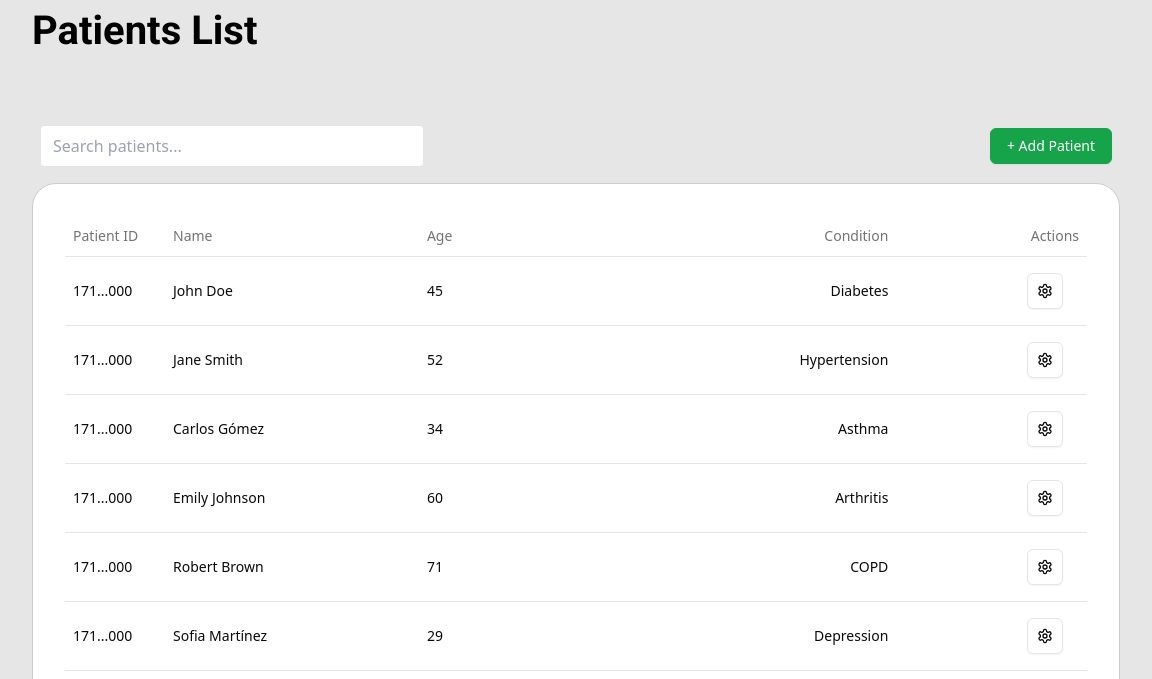
Scenario: template spec › Adds a new patient
This screenshot has width=1152, height=679.
Click the button "+ Add Patient". click: (1051, 146)
box: [990,128,1112,164]
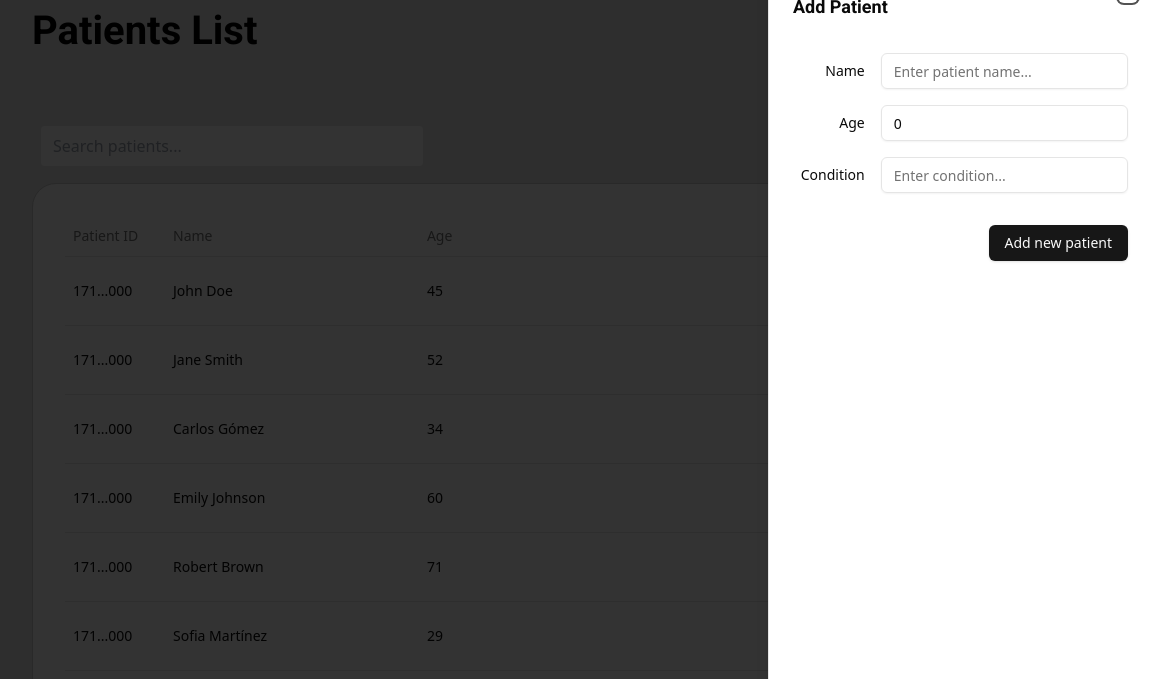
Type "New Patient" into the field named "name". click: (1005, 71)
box: [881,53,1128,89]
Type "30" into the number field named "age". click: (1005, 123)
box: [881,105,1128,141]
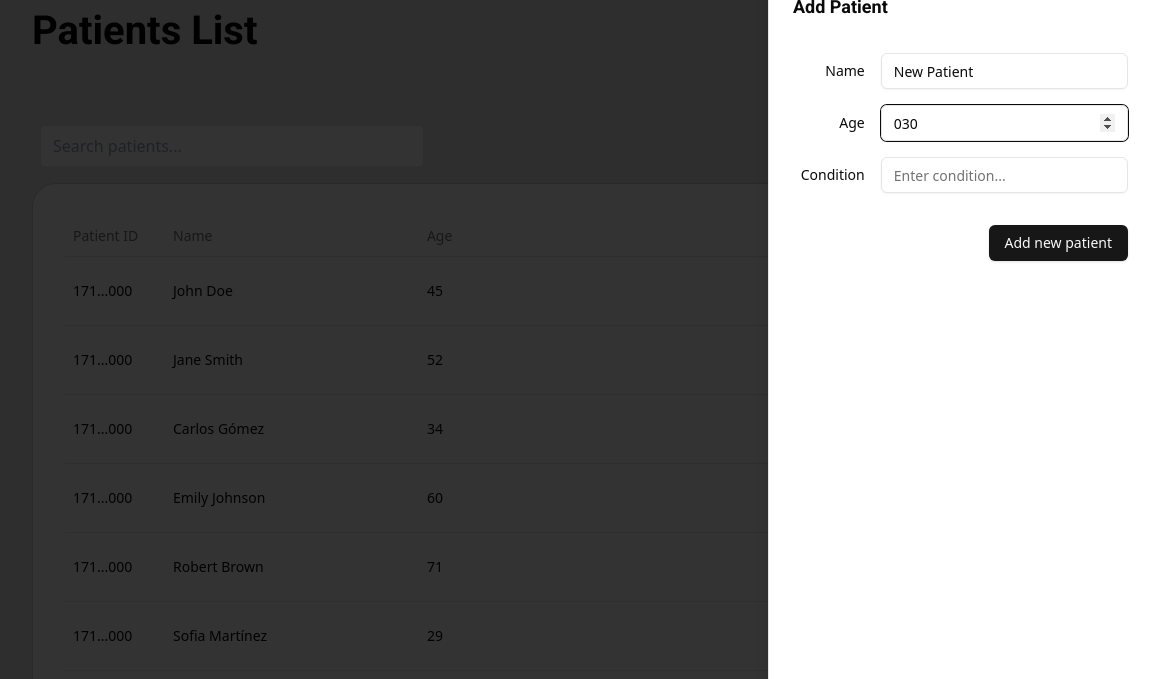
Type "Healthy" into the field named "condition". click: (1005, 175)
box: [881,157,1128,193]
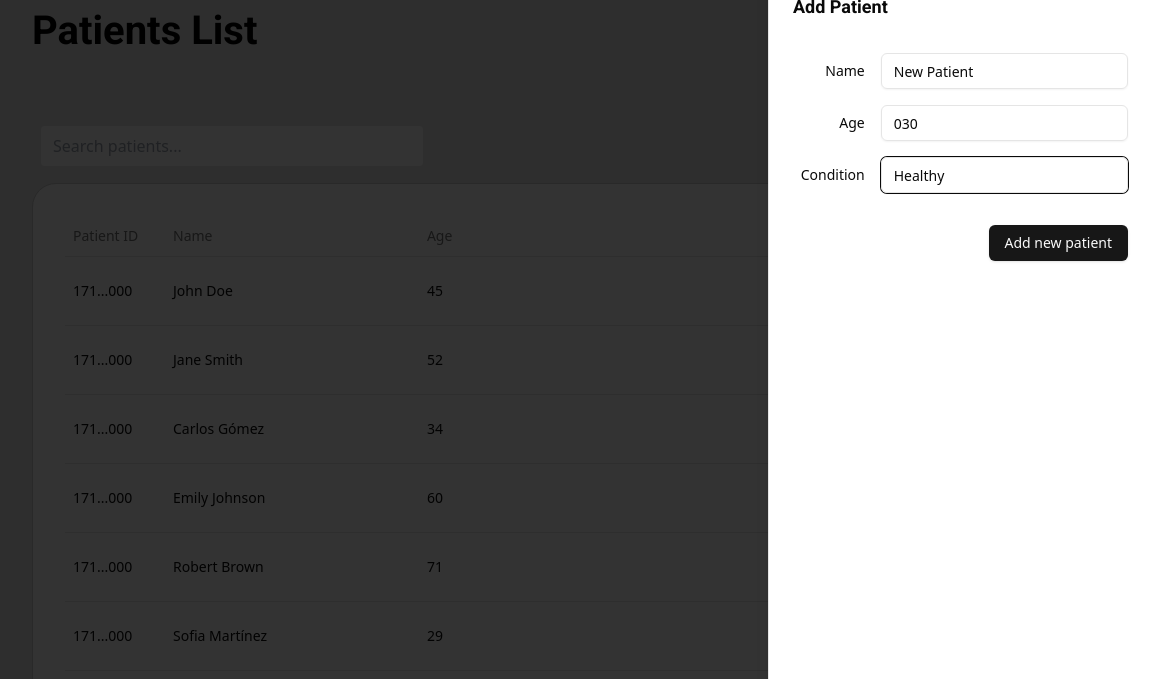
Click the button "Add new patient". click: (1059, 243)
box: [989,225,1129,261]
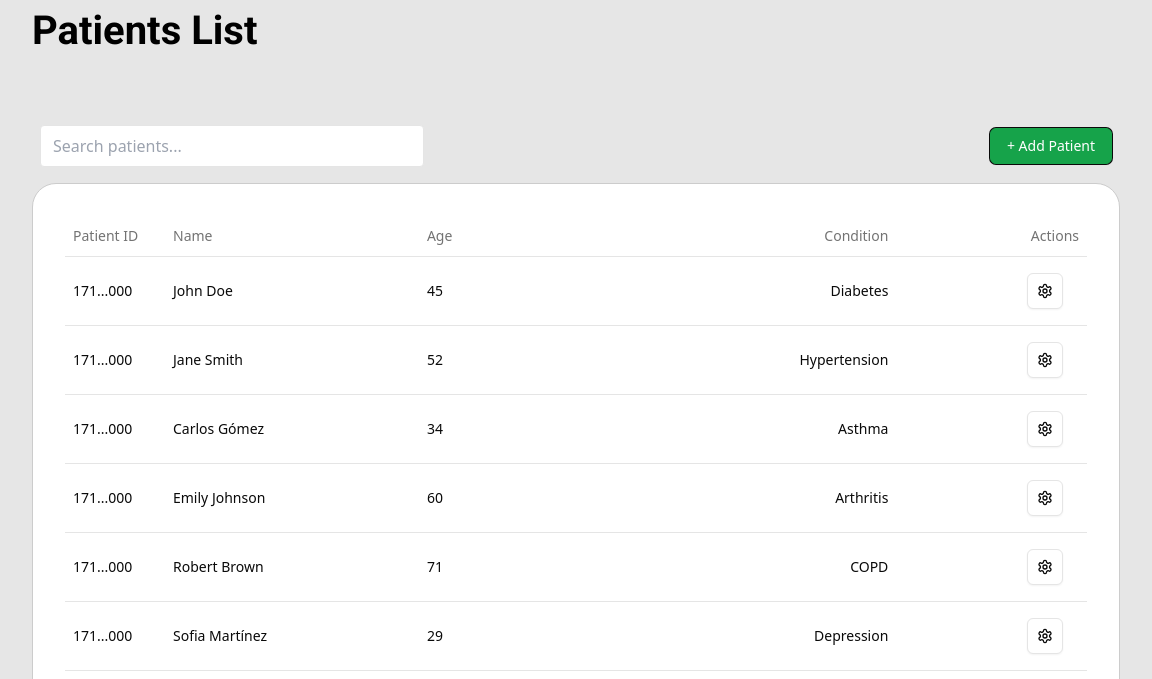
Scroll
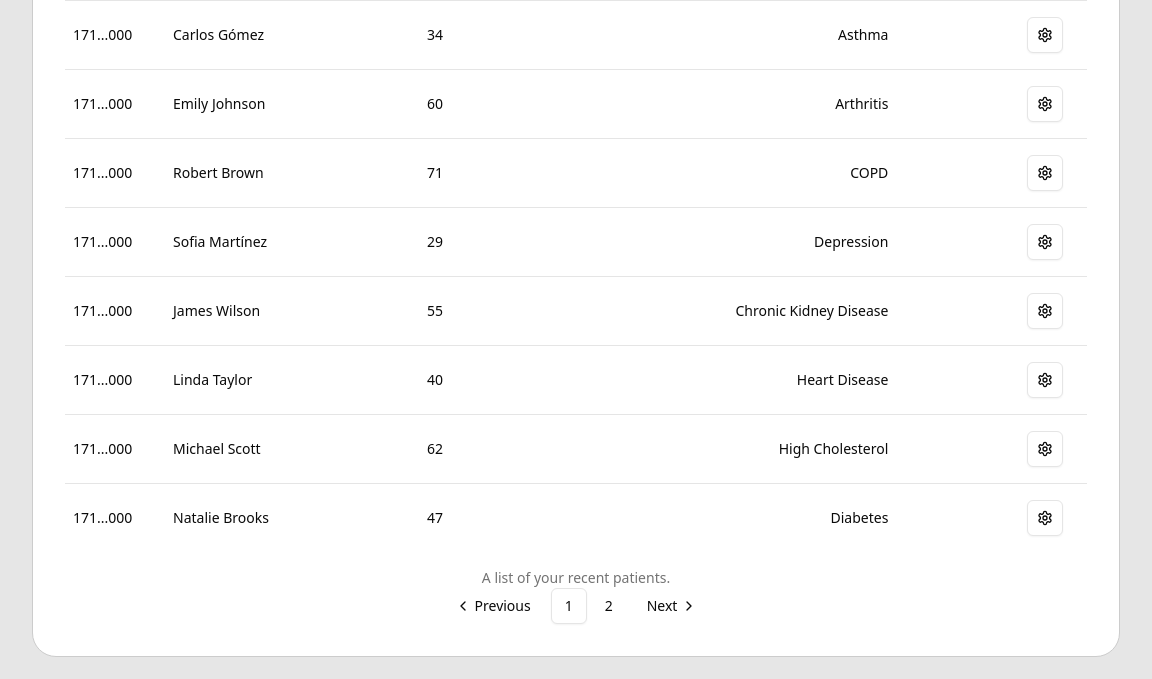
Click the link "2". click: (609, 606)
box: [591,588,627,624]
(page scrolled)
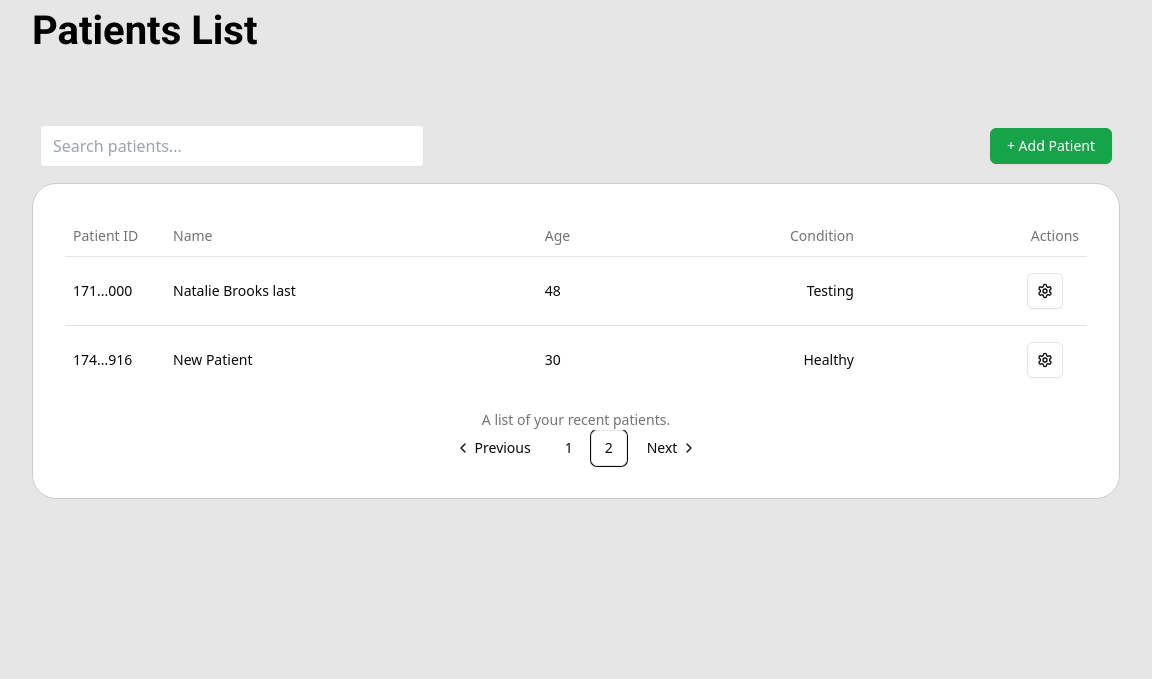
Now the text "New Patient" is shown, box [165,325,537,394]
